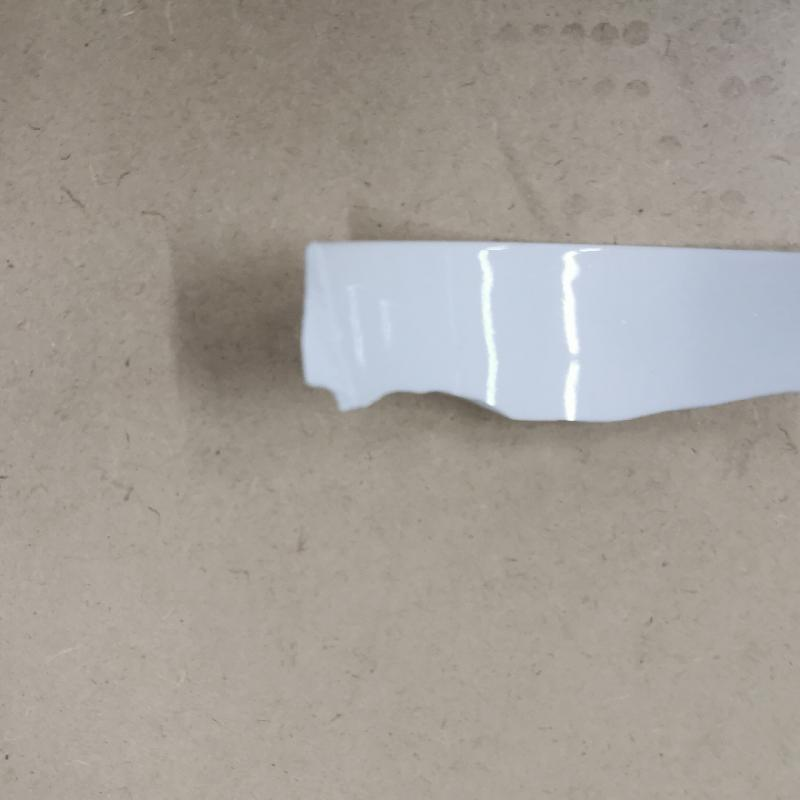ceram: (298, 222, 799, 437)
